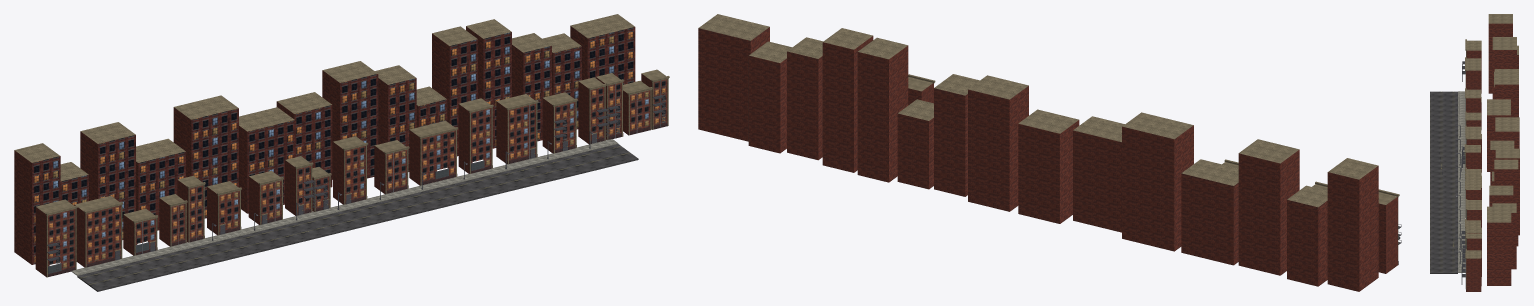
The model's file is stage0.glb.
The picture shows the model from 3 angles, left to right: view 1: azimuth 30°, elevation 25°; view 2: azimuth 150°, elevation 25°; view 3: azimuth 270°, elevation 25°; orthographic projection. The views are drawn at different scales.
Parts seen in each view (by area): view 1: Scenery; view 2: Scenery; view 3: Scenery.
Boxes of the visible parts, bbox=[...] form: Scenery: bbox=[14, 14, 669, 291]; Scenery: bbox=[698, 14, 1401, 291]; Scenery: bbox=[1430, 14, 1519, 291].
Bounding box in the file's own units: 163 × 28.4 × 29.73.
Materials: 16 (12 with a texture image).
